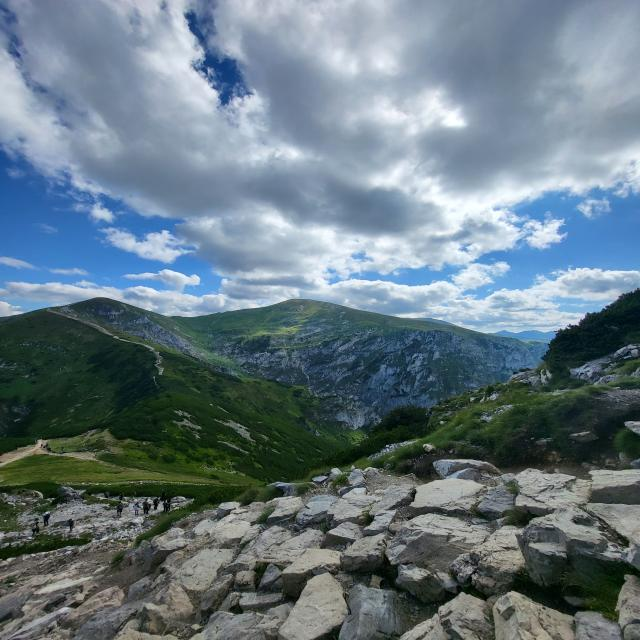Kopa Kondracka: (0, 245, 207, 359)
Malolaczniak: (164, 219, 461, 381)
